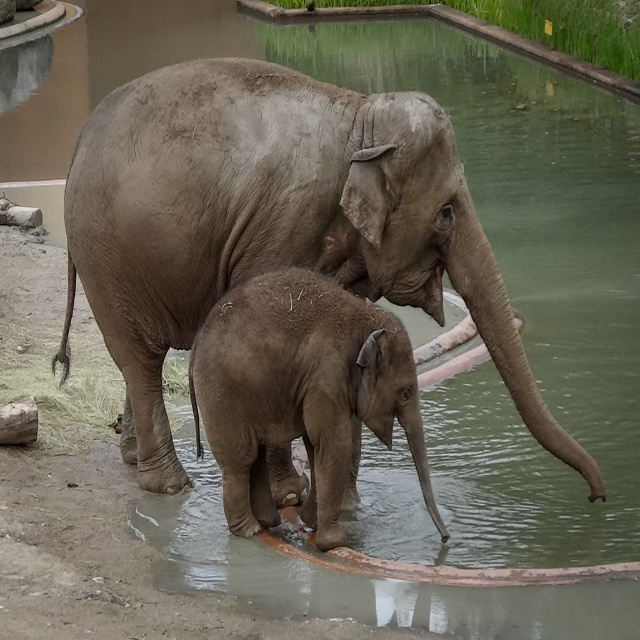Elephant: (52, 57, 608, 504), (188, 266, 451, 551)
